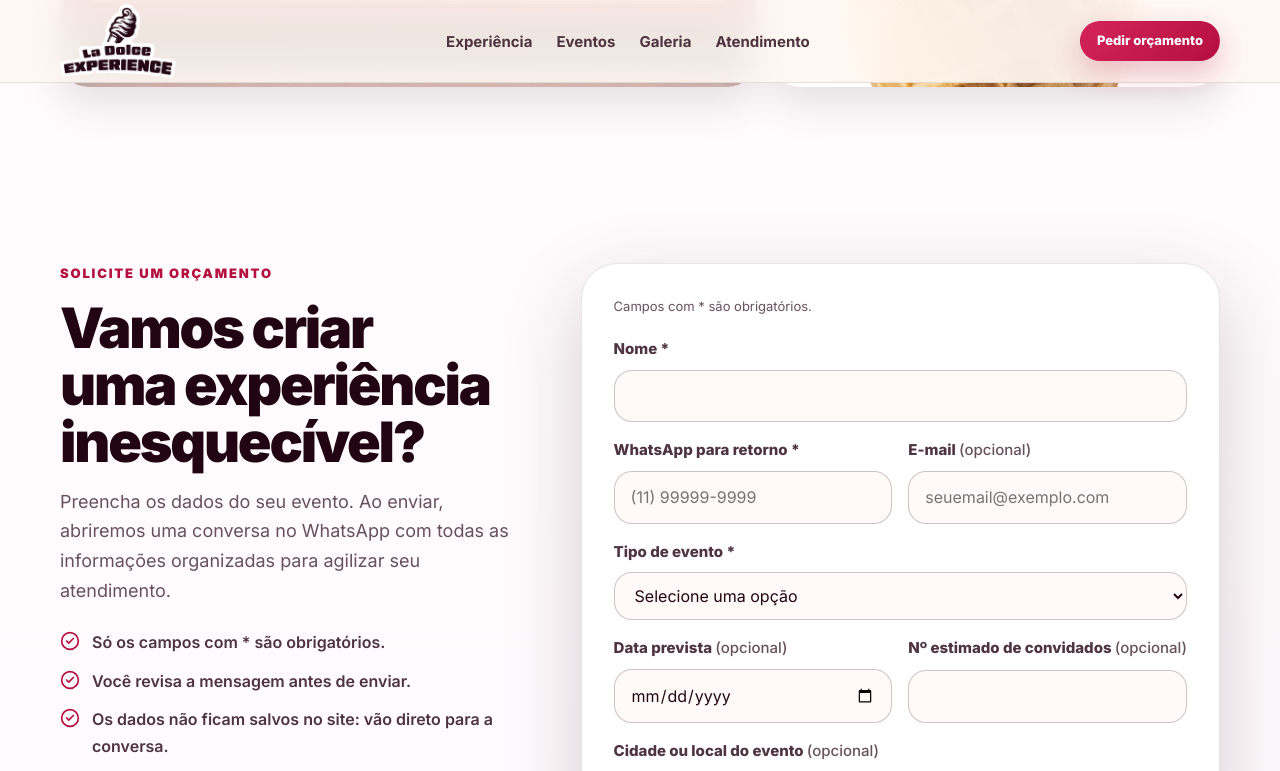
Test: Formulário de orçamento › mostra erros acessíveis, foca o primeiro campo e preserva o que foi digitado
(page scrolled)
Type "ana@exemplo.com" into the field labelled "E-mail (opcional)" at (1048, 497), box [908, 471, 1187, 524]
(page scrolled)
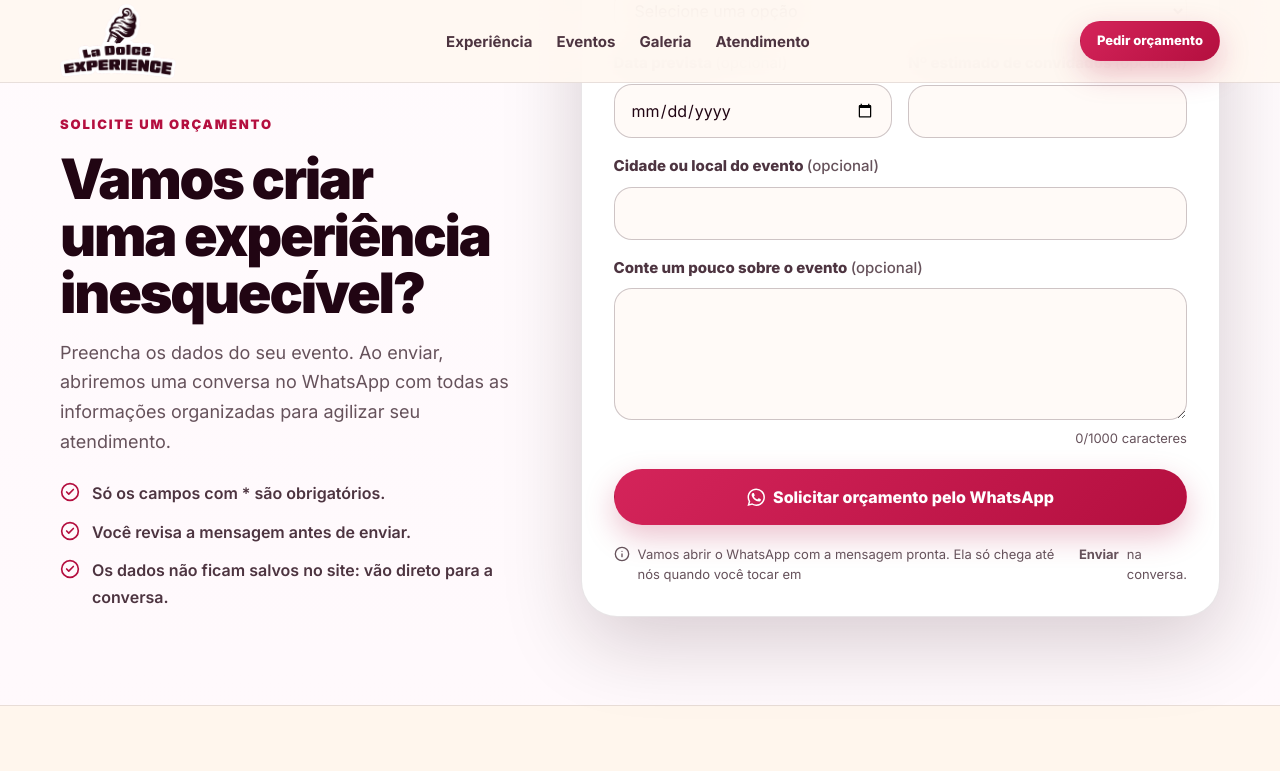
Click the button "Solicitar orçamento pelo WhatsApp" at (900, 497), box [614, 469, 1187, 525]
(page scrolled)
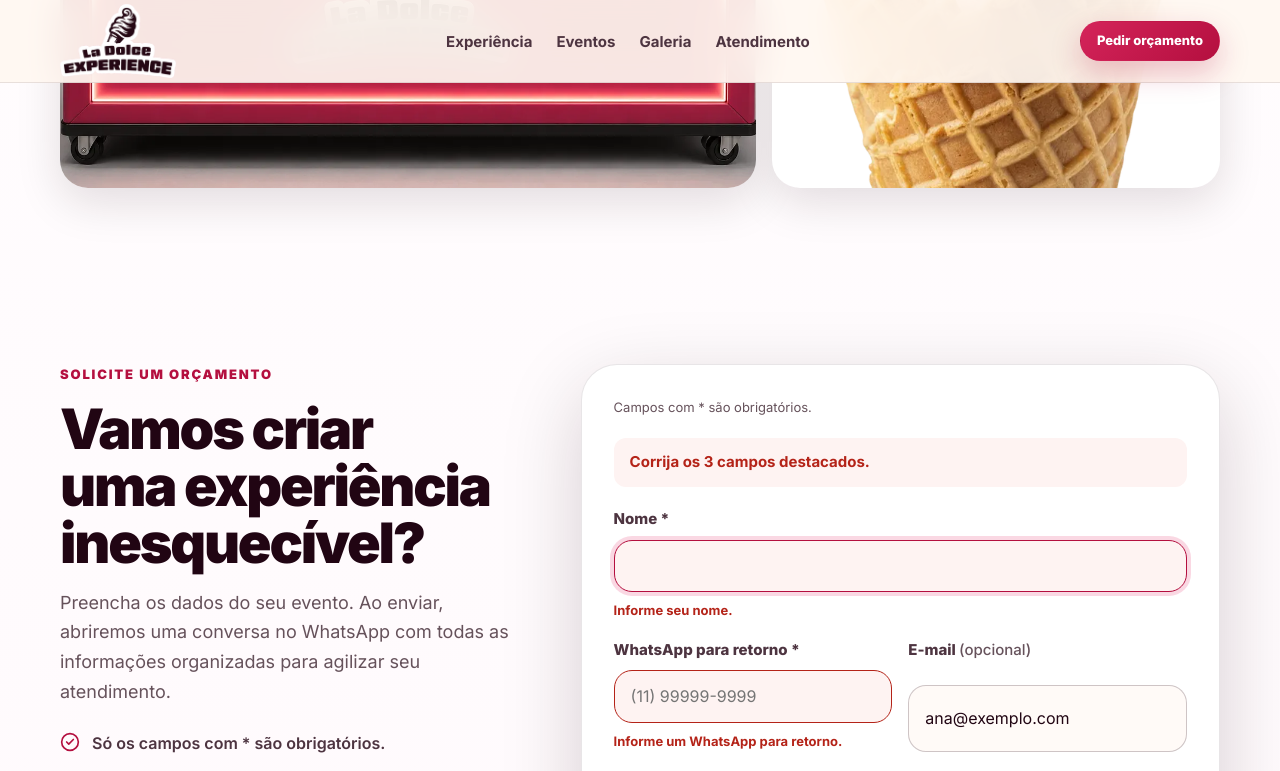
Result: the message reads "Corrija os 3 campos destacados." at [630, 452, 870, 471]
